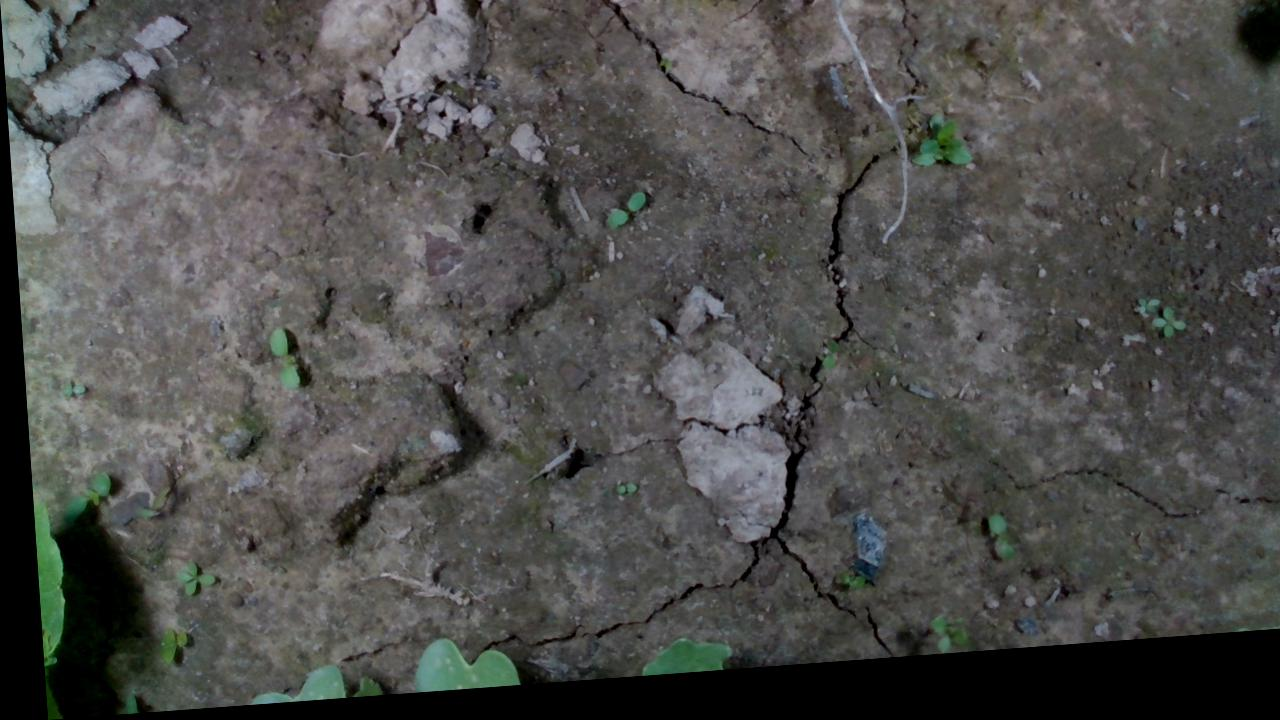weed: (52, 470, 106, 522), (261, 329, 295, 394), (597, 198, 643, 237), (166, 561, 209, 599), (977, 526, 1004, 576), (149, 628, 178, 666), (49, 377, 81, 401), (824, 581, 857, 603), (602, 489, 629, 505)
